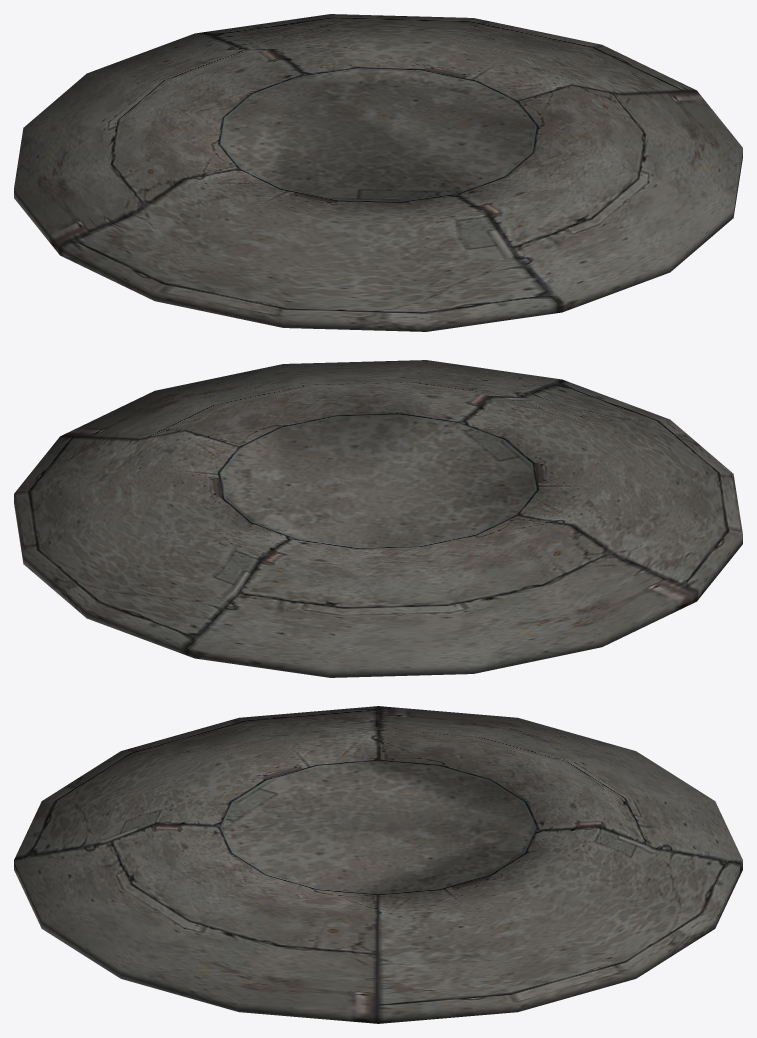
The model's file is UFO.fbx.
The picture shows the model from 3 angles, top to bottom: view 1: azimuth 30°, elevation 25°; view 2: azimuth 150°, elevation 25°; view 3: azimuth 270°, elevation 25°; orthographic projection.
Parts seen in each view (by area): view 1: UFO; view 2: UFO; view 3: UFO.
Boxes of the visible parts, box(x1,y1,x2,y2) form: UFO: box(14, 14, 742, 331); UFO: box(14, 360, 742, 677); UFO: box(14, 706, 742, 1023).
Bounding box in the file's own units: 5.4 × 5.4 × 0.7302.
1 material, 1 textured.
